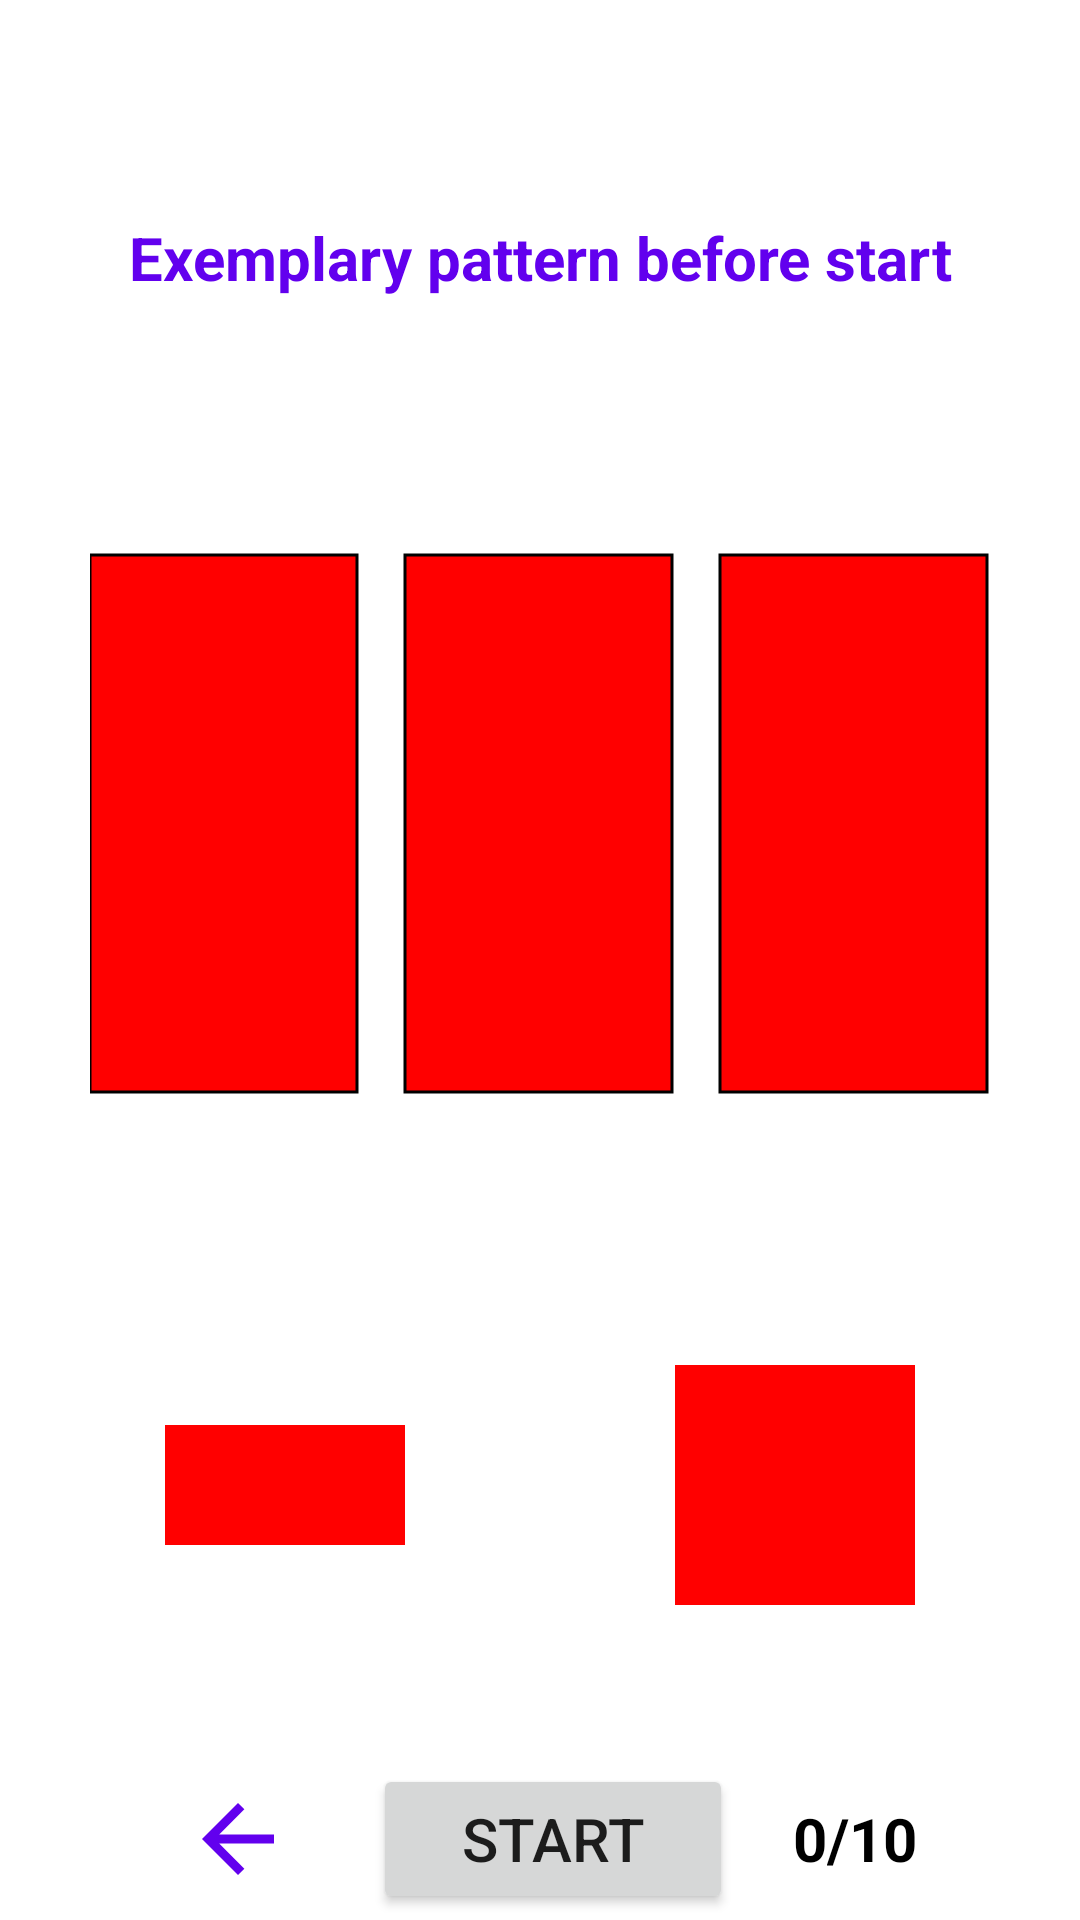

Screen size 1080px×1920px. Icon name, then its box in pixels as region(x1, y1, x2, y2):
BACK: region(202, 1803, 274, 1875)
